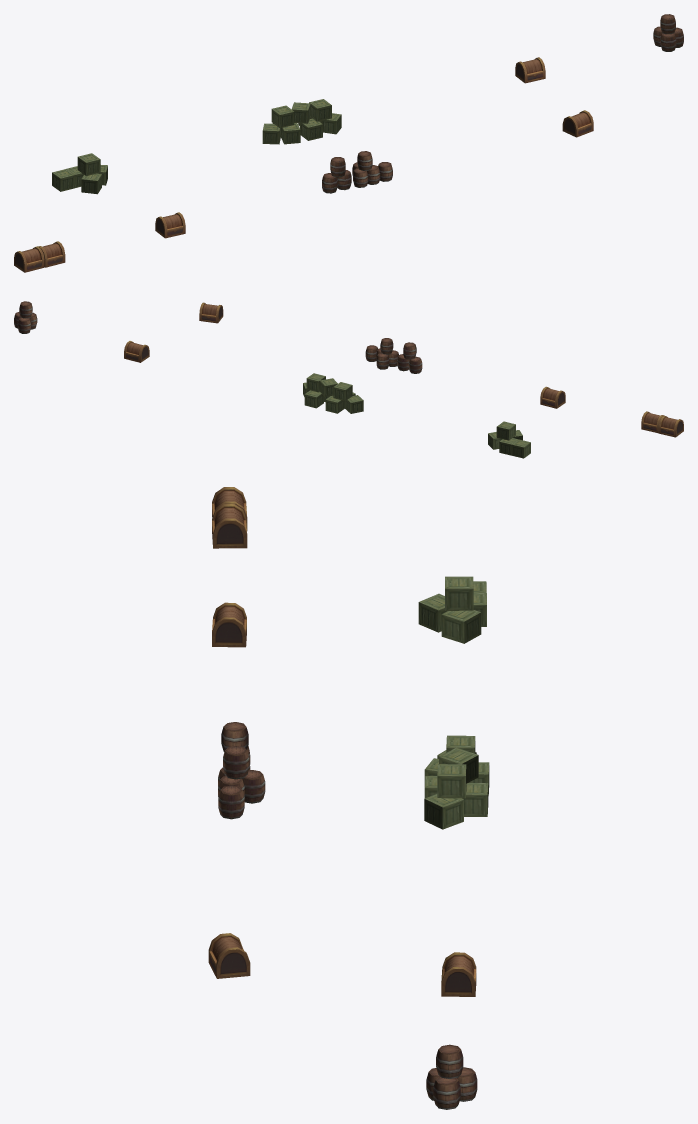
The model's file is wujian22.fbx.
3 views of the same model, one above another, from view 1: azimuth 30°, elevation 25°; view 2: azimuth 150°, elevation 25°; view 3: azimuth 270°, elevation 25° (orthographic). The views are drawn at different scales.
Parts seen in each view (by area): view 1: wujian22; view 2: wujian22; view 3: wujian22.
Part boxes in pixels (x1=…): wujian22: x1=14, y1=14, x2=683, y2=272; wujian22: x1=14, y1=301, x2=683, y2=458; wujian22: x1=208, y1=487, x2=489, y2=1109.
Bounding box in the file's own units: 6076 × 240 × 1208.
Materials: 1 (1 with a texture image).
